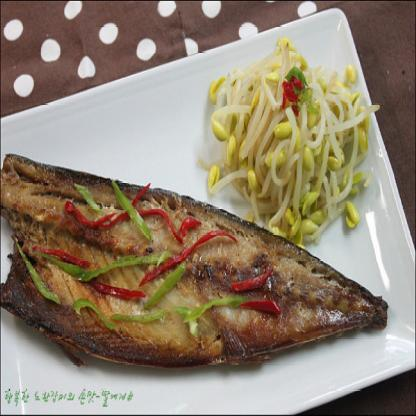Peixe: (0, 140, 394, 365)
